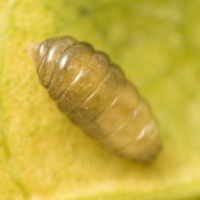insect: (33, 36, 160, 161)
